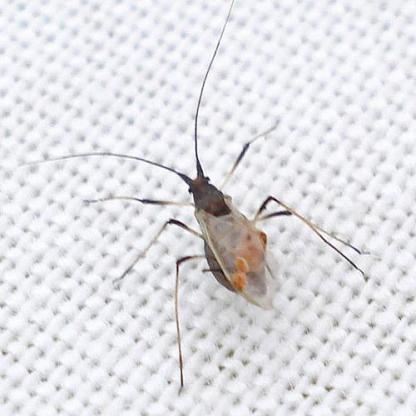aphid: (99, 54, 335, 344)
